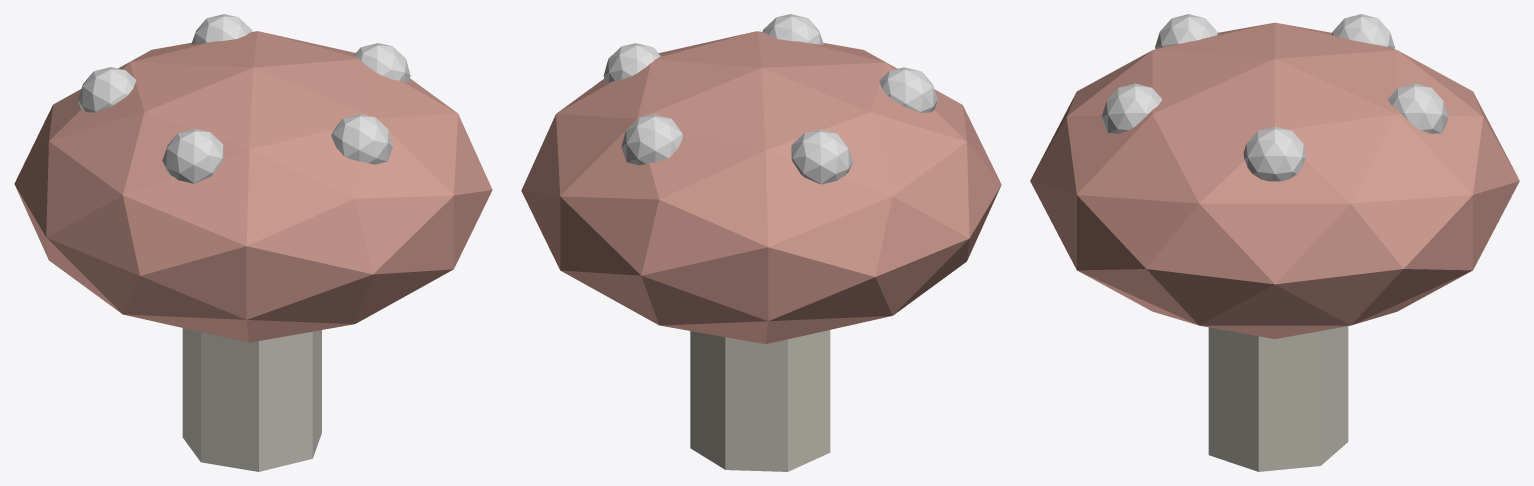
The model's file is mushroom.glb.
The picture shows the model from 3 angles, left to right: view 1: azimuth 30°, elevation 25°; view 2: azimuth 150°, elevation 25°; view 3: azimuth 270°, elevation 25°; orthographic projection. The views are drawn at different scales.
Parts seen in each view (by area): view 1: Cap, Stem, Dot_2, Dot_1, Dot_3, Dot_0, Dot_4; view 2: Cap, Stem, Dot_3, Dot_4, Dot_2, Dot_0, Dot_1; view 3: Cap, Stem, Dot_0, Dot_1, Dot_4, Dot_2, Dot_3.
Boxes of the visible parts, x1,y1,x2,y2 form: Cap: (14, 31, 492, 342); Stem: (182, 328, 321, 471); Dot_2: (162, 128, 223, 183); Dot_1: (331, 114, 392, 164); Dot_3: (78, 67, 135, 112); Dot_0: (354, 43, 410, 82); Dot_4: (191, 14, 252, 44); Cap: (521, 31, 1001, 344); Stem: (690, 330, 830, 471); Dot_3: (791, 129, 852, 184); Dot_4: (621, 114, 683, 165); Dot_2: (879, 67, 937, 112); Dot_0: (603, 43, 660, 83); Dot_1: (762, 14, 823, 44); Cap: (1030, 22, 1519, 338); Stem: (1208, 326, 1348, 471); Dot_0: (1243, 126, 1306, 181); Dot_1: (1101, 83, 1161, 133); Dot_4: (1388, 83, 1448, 133); Dot_2: (1155, 14, 1218, 49); Dot_3: (1331, 14, 1394, 49).
Bounding box in the file's own units: 0.8 × 0.69 × 0.8.
